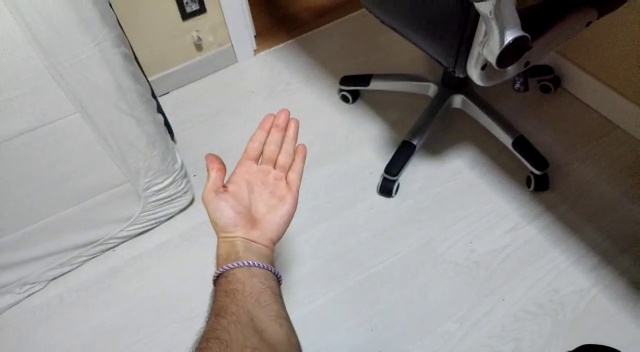Palm: (196, 108, 308, 244)
